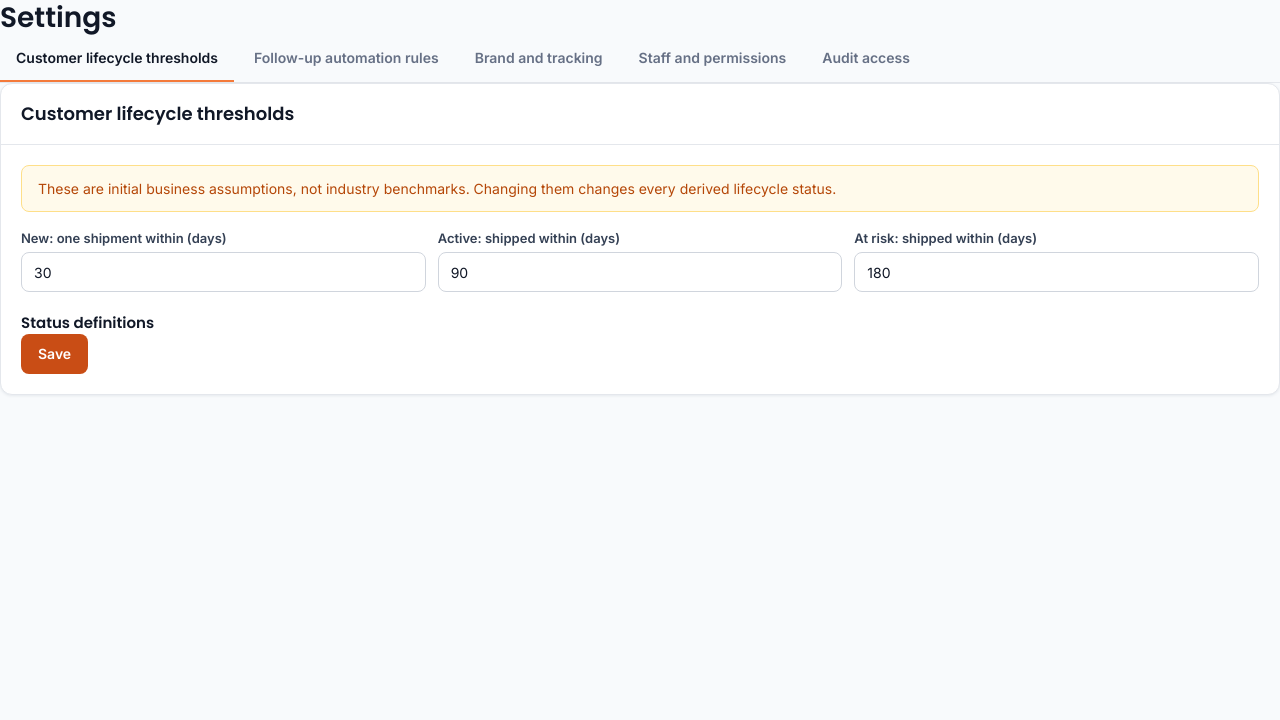
Test: Settings › Staff and permissions › deactivates another account after a confirmation, never the signed-in one
Expected: the heading "Settings" is shown, [0, 0, 117, 36]
Click the tab "Staff and permissions": (712, 59) [623, 36, 802, 82]
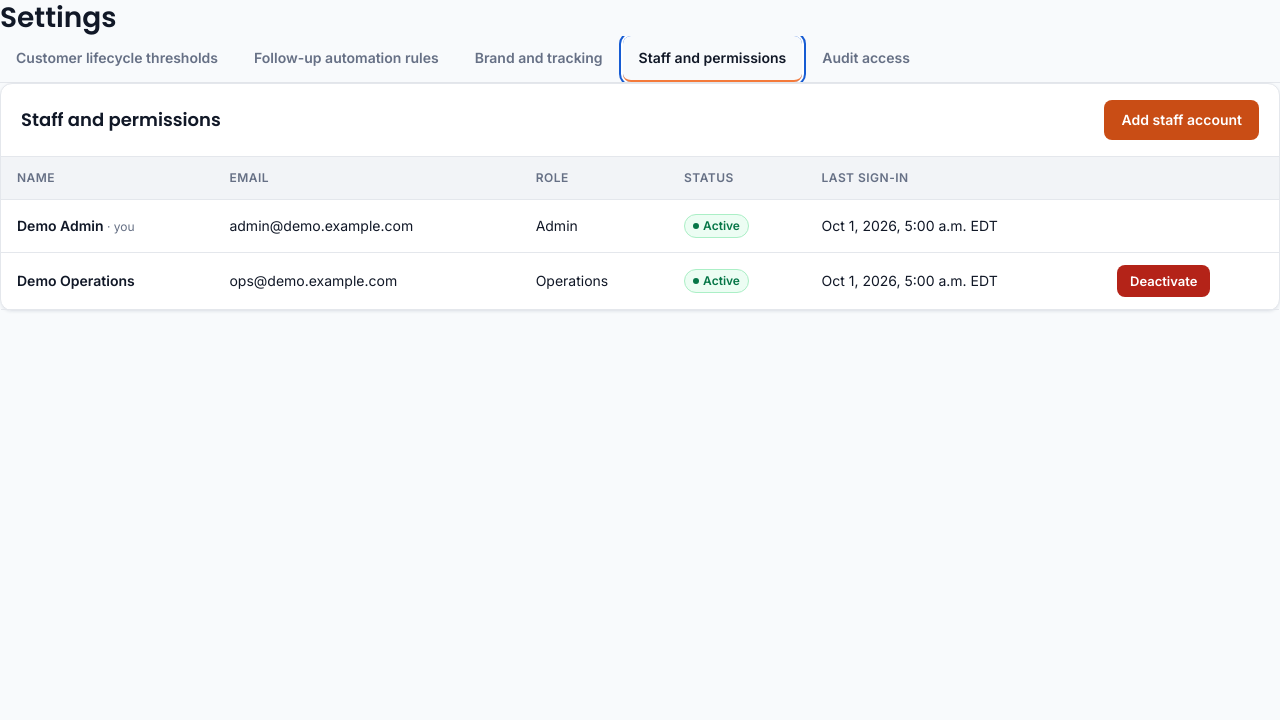
Expected: the text "· you" is shown, [104, 219, 135, 234]
Click the button "Deactivate": (1164, 280) [1117, 264, 1210, 296]
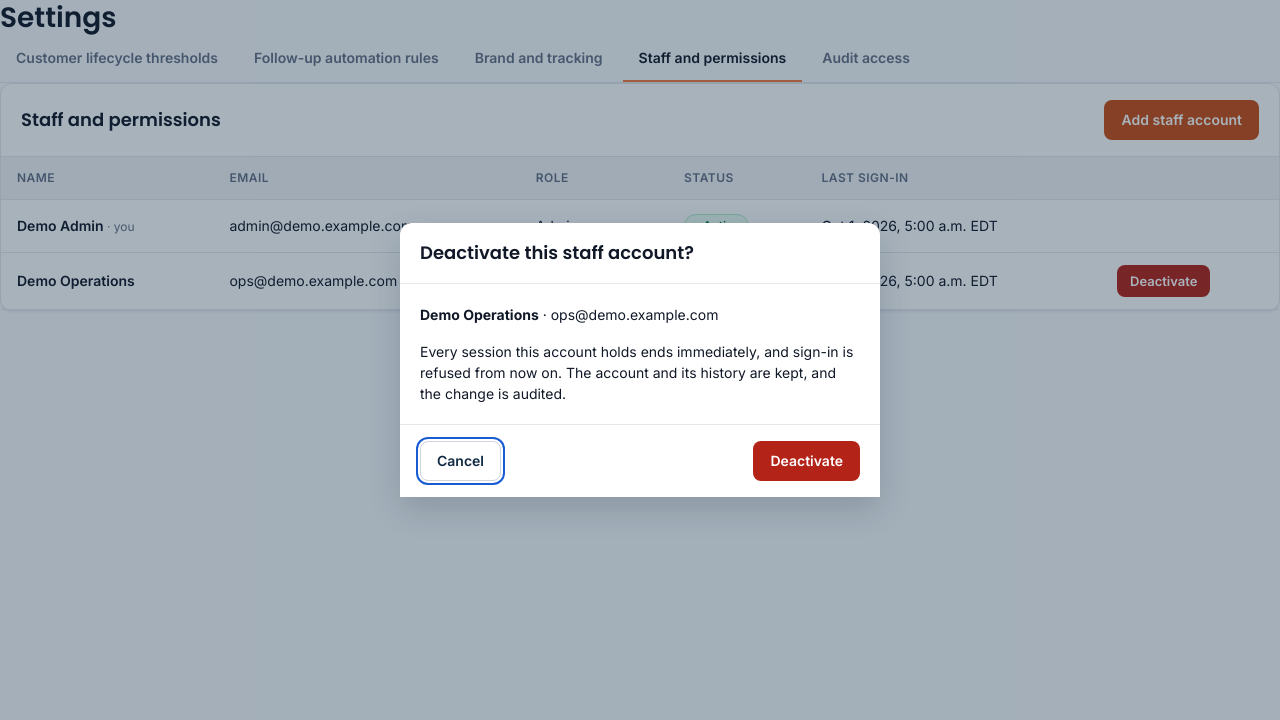
Expected: the text "Every session this account holds ends immediately" is shown, [420, 343, 853, 402]
Click the button "Deactivate": (807, 461) [753, 441, 860, 481]
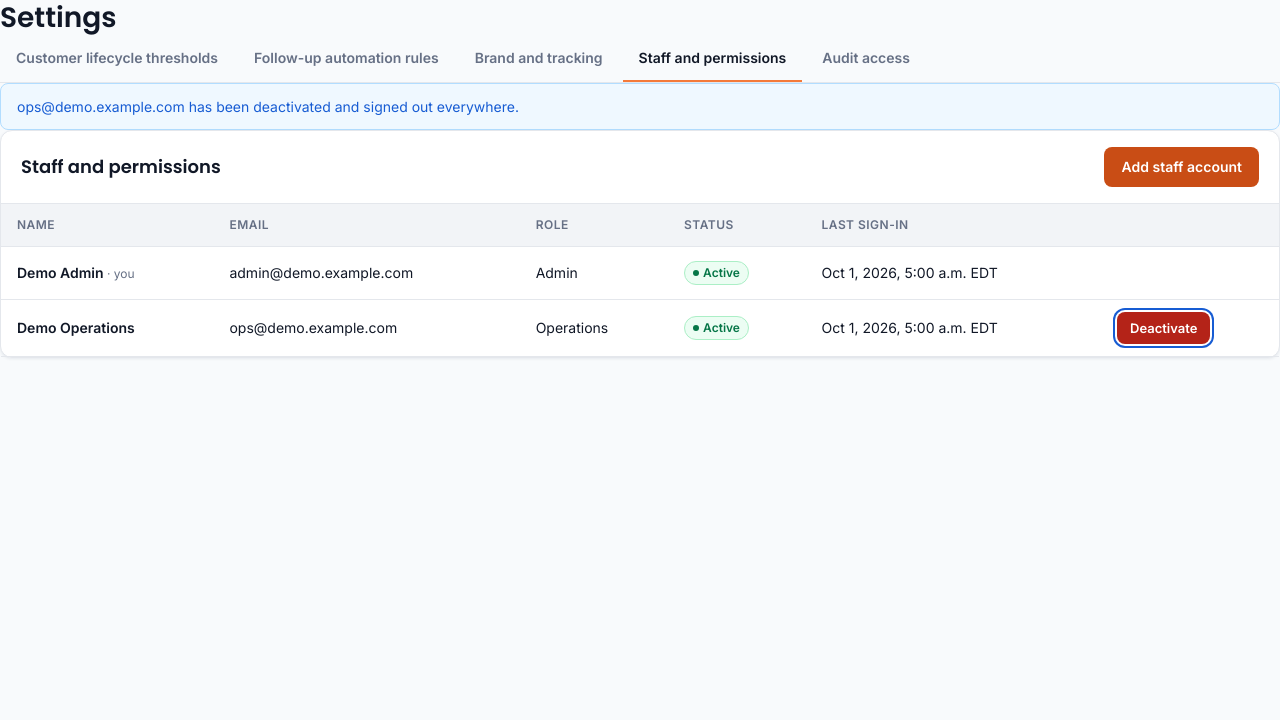
Expected: the text "ops@demo.example.com has been deactivated and signed out everywhere." is shown, [17, 96, 519, 117]
